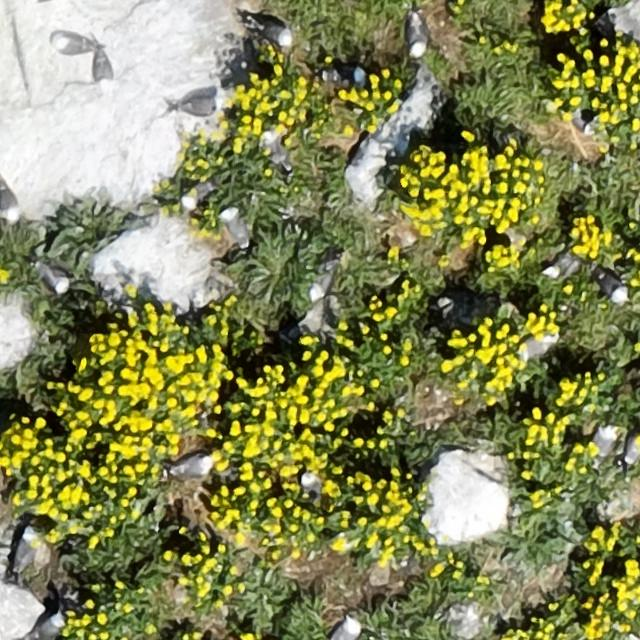umineko: (544, 250, 581, 285), (312, 261, 340, 300), (223, 210, 248, 247), (172, 457, 214, 478), (254, 21, 292, 44), (598, 273, 627, 303), (15, 530, 35, 572), (178, 95, 220, 114), (296, 471, 329, 495), (520, 335, 555, 357), (41, 265, 68, 293), (33, 614, 64, 638), (408, 16, 427, 55), (352, 65, 373, 97), (329, 617, 357, 640), (593, 425, 613, 457), (53, 37, 88, 55), (1, 186, 20, 218), (181, 184, 206, 207), (625, 432, 640, 464)
